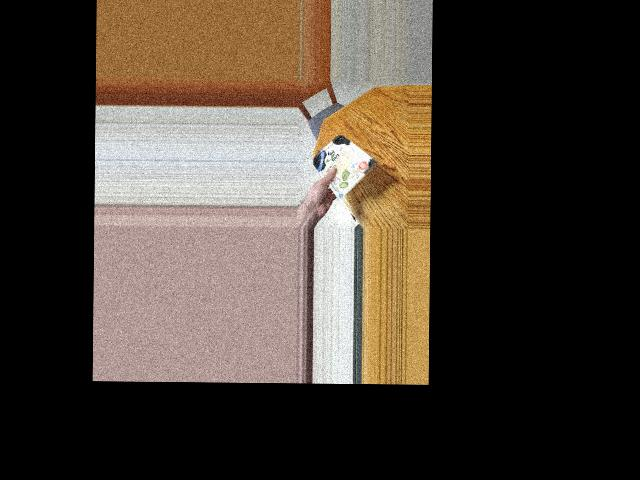cheese: (312, 140, 368, 188)
